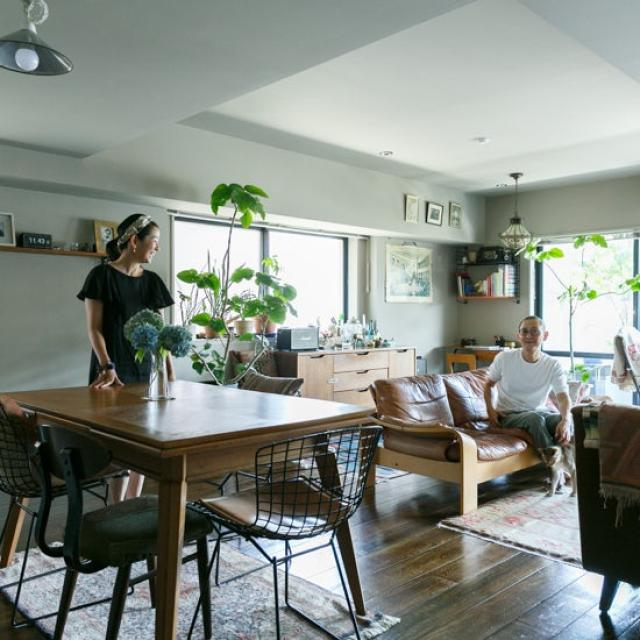vintage chair: (28, 421, 215, 638), (198, 423, 366, 640)
vintage desk: (0, 384, 375, 636)
vintage shelf: (274, 343, 412, 406)
vintage sofa: (375, 368, 526, 518)
